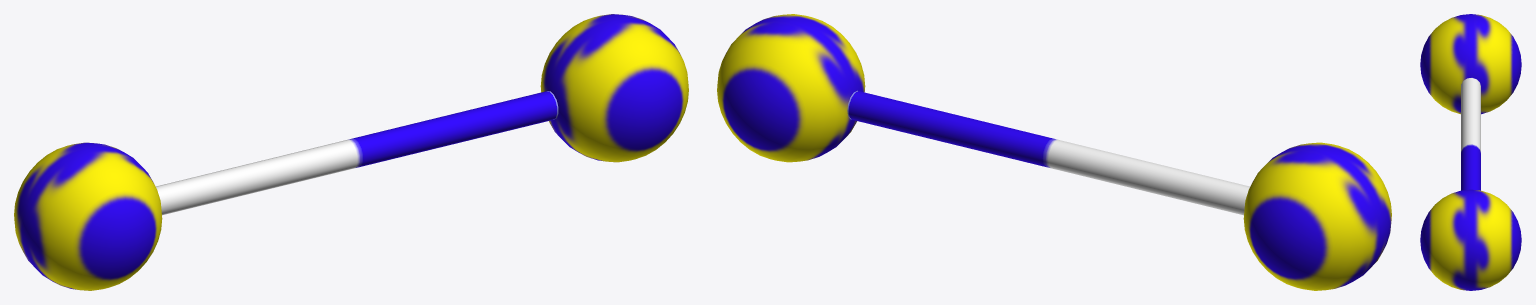
The model's file is Rod.fbx.
3 views of the same model, side by side, from view 1: azimuth 30°, elevation 25°; view 2: azimuth 150°, elevation 25°; view 3: azimuth 270°, elevation 25° (orthographic). The views are drawn at different scales.
Visible parts, largest first — view 1: Sphere.001, Sphere.003, Cylinder; view 2: Sphere.001, Sphere.003, Cylinder; view 3: Sphere.003, Sphere.001, Cylinder.
Boxes of the visible parts, <box> form: Sphere.001: <box>14,142,162,290</box>; Sphere.003: <box>540,14,688,162</box>; Cylinder: <box>156,91,558,215</box>; Sphere.001: <box>1243,142,1391,290</box>; Sphere.003: <box>717,14,865,162</box>; Cylinder: <box>847,90,1249,215</box>; Sphere.003: <box>1420,189,1521,290</box>; Sphere.001: <box>1420,14,1521,114</box>; Cylinder: <box>1461,78,1480,190</box>.
Bounding box in the file's own units: 509 × 100 × 100.
Materials: 2 (2 with a texture image).
